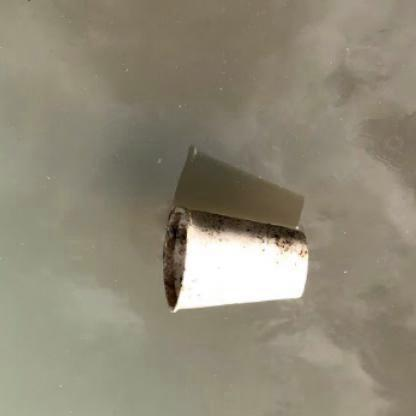Plastic: (155, 204, 312, 316)
